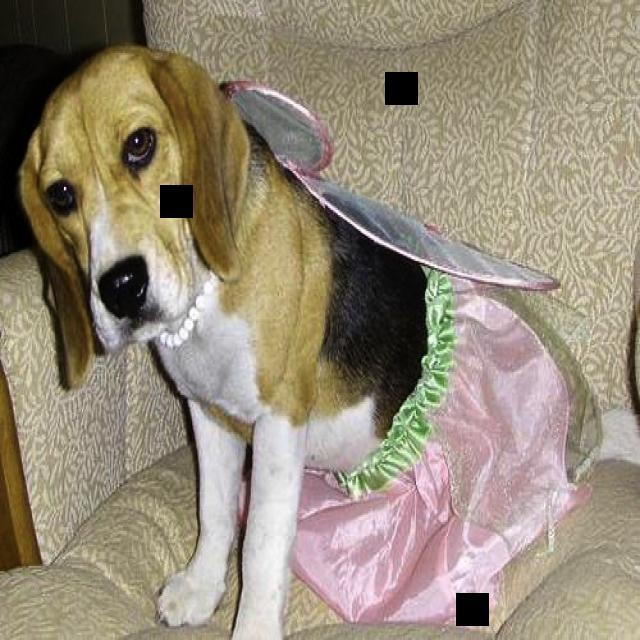adult_dog: (12, 45, 433, 640)
